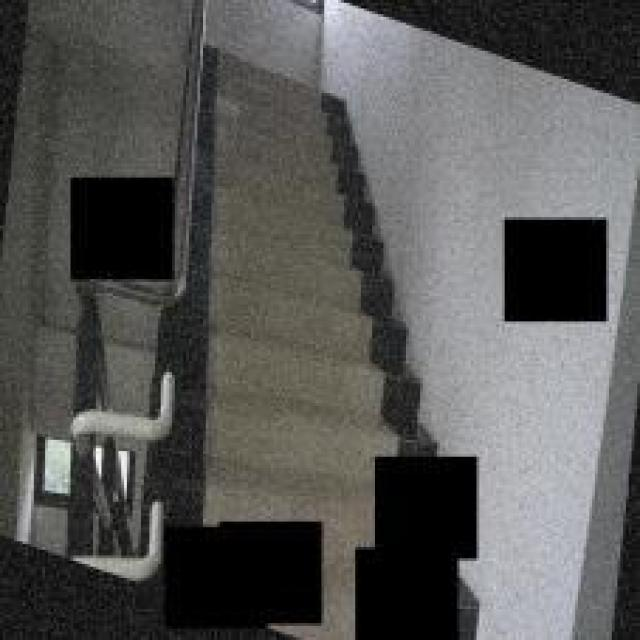upstair: (218, 38, 368, 497)
